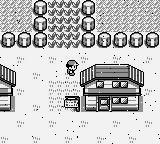captura: (47, 0, 81, 48)
leer: (64, 96, 80, 112)
main: (66, 60, 79, 76)
no-caminable: (80, 0, 158, 47), (80, 64, 143, 111), (0, 0, 48, 47), (0, 64, 15, 111)
puerta: (98, 97, 110, 112)
